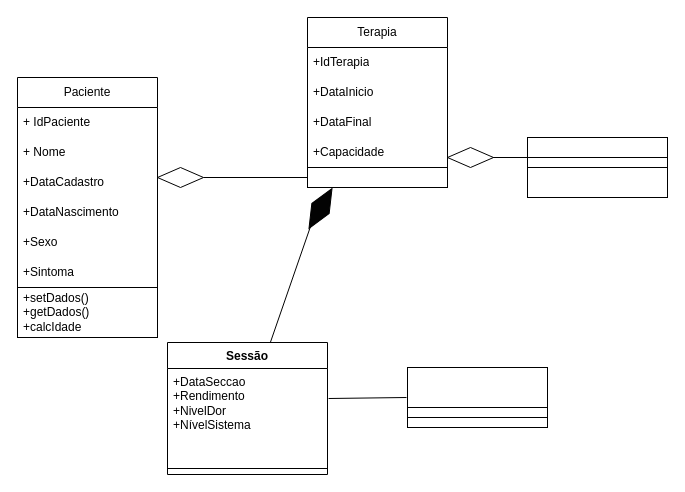
The diagram is 685 pixels wide and 492 high, and some of its shapes have lost their labels. Each missing label, with the centre of its shape:
<<signal>> Terapia aumentada: point 477,387
Avaliação: point 597,147
